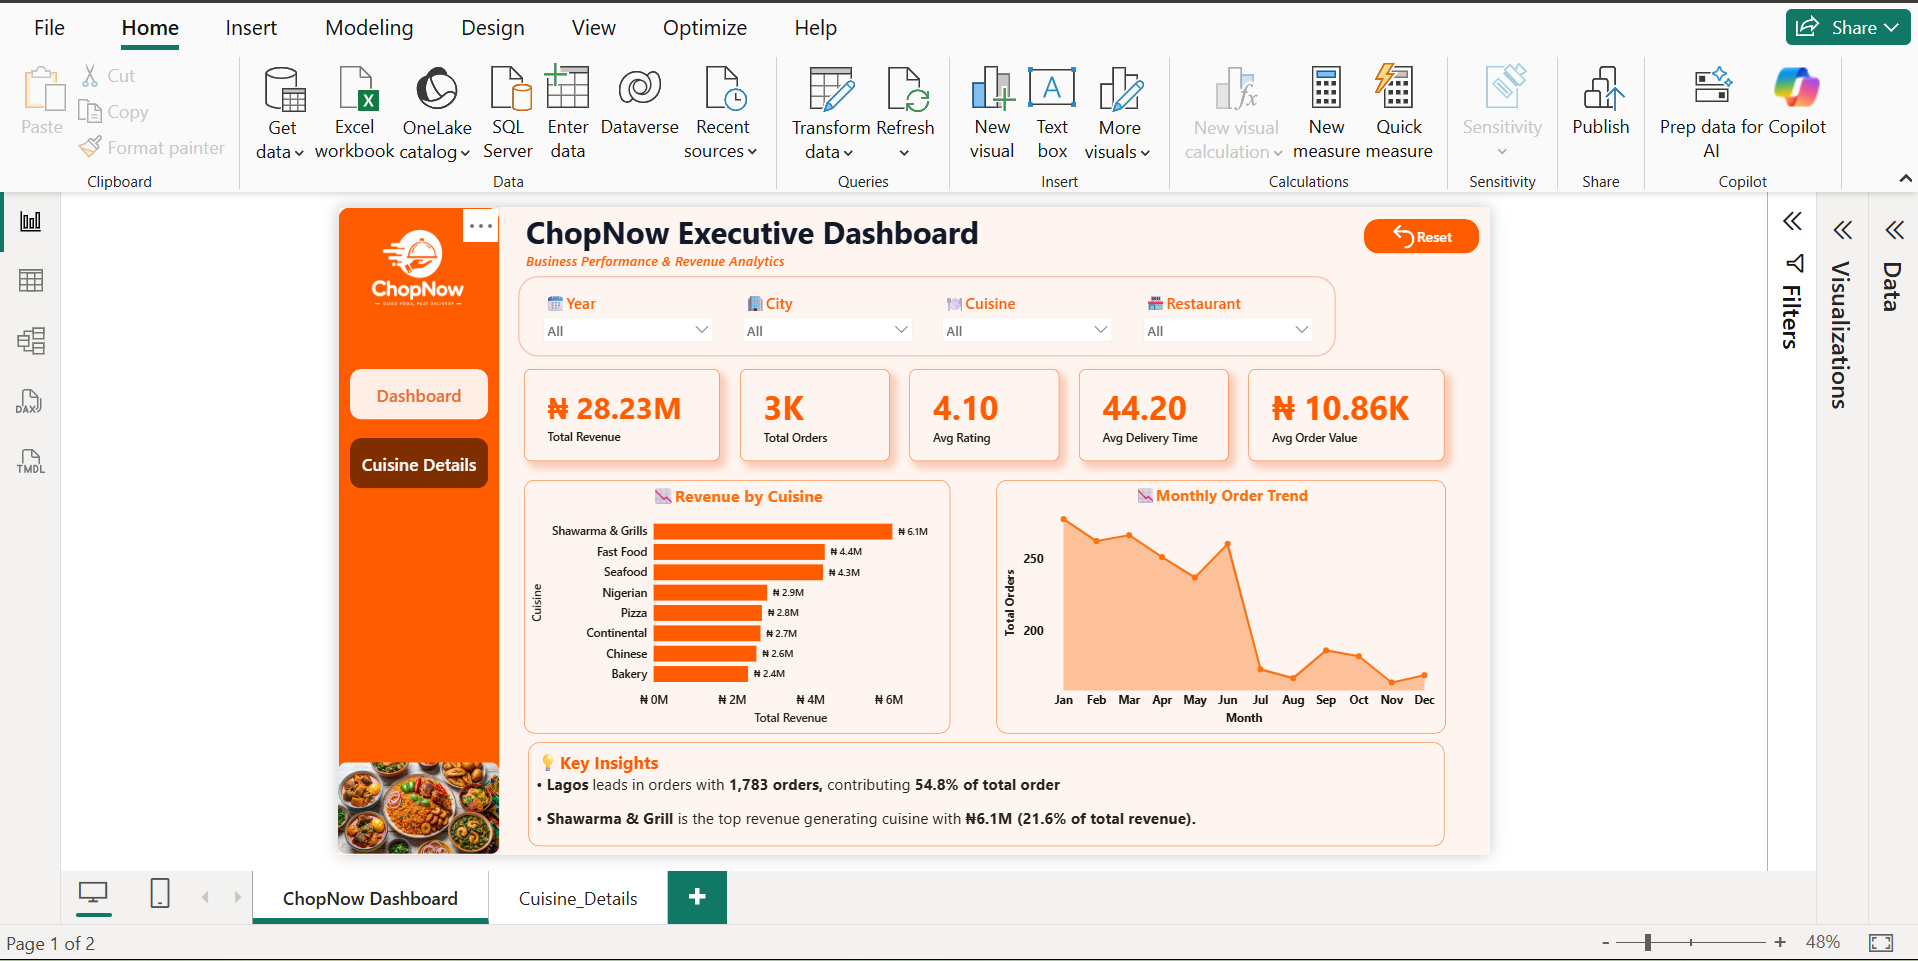

The dashboard page shown, as its layout file describes it:
{"tool":"powerbi","page":{"name":"ChopNow Dashboard","canvas":[1600,900],"ordinal":0},"visuals":[{"type":"shape","box":[249.3,96,1136,112],"z":0},{"type":"shape","box":[0,0,224,896],"z":1000},{"type":"textbox","box":[256,0,720,96],"z":2000},{"type":"slicer","fields":{"Values":["Calendar.Year"]},"box":[275.3,112,256,80],"z":3000},{"type":"cardVisual","fields":{"Data":["Measure.Total Revenue"]},"box":[257.3,224,272,128],"z":4000},{"type":"clusteredBarChart","title":"📉Revenue by Cuisine","fields":{"Category":["restaurants.cuisine_name"],"Y":["Measure.Total Revenue"]},"box":[257.9,379.8,592,352],"z":5000},{"type":"lineChart","title":"📉Monthly Order Trend","fields":{"Y":["Measure.Total Orders"],"Category":["Calendar.Year","Calendar.Month"]},"box":[913.9,379.8,624,352],"z":6000},{"type":"image","box":[37,0,144,176],"z":7000},{"type":"actionButton","title":"Dashboard","box":[15.9,224.7,192,70],"z":8000},{"type":"actionButton","title":"Dashboard","box":[16,320,192,70],"z":9000},{"type":"slicer","fields":{"Values":["restaurants.city"]},"box":[552.7,112,256,80],"z":10000},{"type":"slicer","fields":{"Values":["restaurants.cuisine_name"]},"box":[830,112,256,80],"z":11000},{"type":"slicer","fields":{"Values":["restaurants.restaurant_name"]},"box":[1107.3,112,256,80],"z":12000},{"type":"cardVisual","fields":{"Data":["Measure.Total Orders"]},"box":[557.3,224,208,128],"z":13000},{"type":"cardVisual","fields":{"Data":["Measure.Avg Order Value"]},"box":[1265.3,224,272,128],"z":14000},{"type":"cardVisual","fields":{"Data":["Measure.Avg Delivery Time"]},"box":[1029.3,224,208,128],"z":15000},{"type":"cardVisual","fields":{"Data":["Measure.Avg Rating"]},"box":[793.3,224,208,128],"z":16000},{"type":"actionButton","title":"Dashboard","box":[1424,16,160,48],"z":17000},{"type":"textbox","box":[264,744,1272,144],"z":18000},{"type":"image","box":[0,771.4,224,128],"z":19000}]}

Visuals, with their boxes on the page's 1600x900 design canvas (x1, y1, x2, y2). These are canvas units, not pixel positions in the 1918x961 screenshot, which may show the page scaled, cropped or inside an application window:
shape: 249 96 1385 208
shape: 0 0 224 896
textbox: 256 0 976 96
slicer - Calendar.Year: 275 112 531 192
cardVisual - Measure.Total Revenue: 257 224 529 352
"📉Revenue by Cuisine" clusteredBarChart: 258 380 850 732
"📉Monthly Order Trend" lineChart: 914 380 1538 732
image: 37 0 181 176
"Dashboard" actionButton: 16 225 208 295
"Dashboard" actionButton: 16 320 208 390
slicer - restaurants.city: 553 112 809 192
slicer - restaurants.cuisine_name: 830 112 1086 192
slicer - restaurants.restaurant_name: 1107 112 1363 192
cardVisual - Measure.Total Orders: 557 224 765 352
cardVisual - Measure.Avg Order Value: 1265 224 1537 352
cardVisual - Measure.Avg Delivery Time: 1029 224 1237 352
cardVisual - Measure.Avg Rating: 793 224 1001 352
"Dashboard" actionButton: 1424 16 1584 64
textbox: 264 744 1536 888
image: 0 771 224 899
